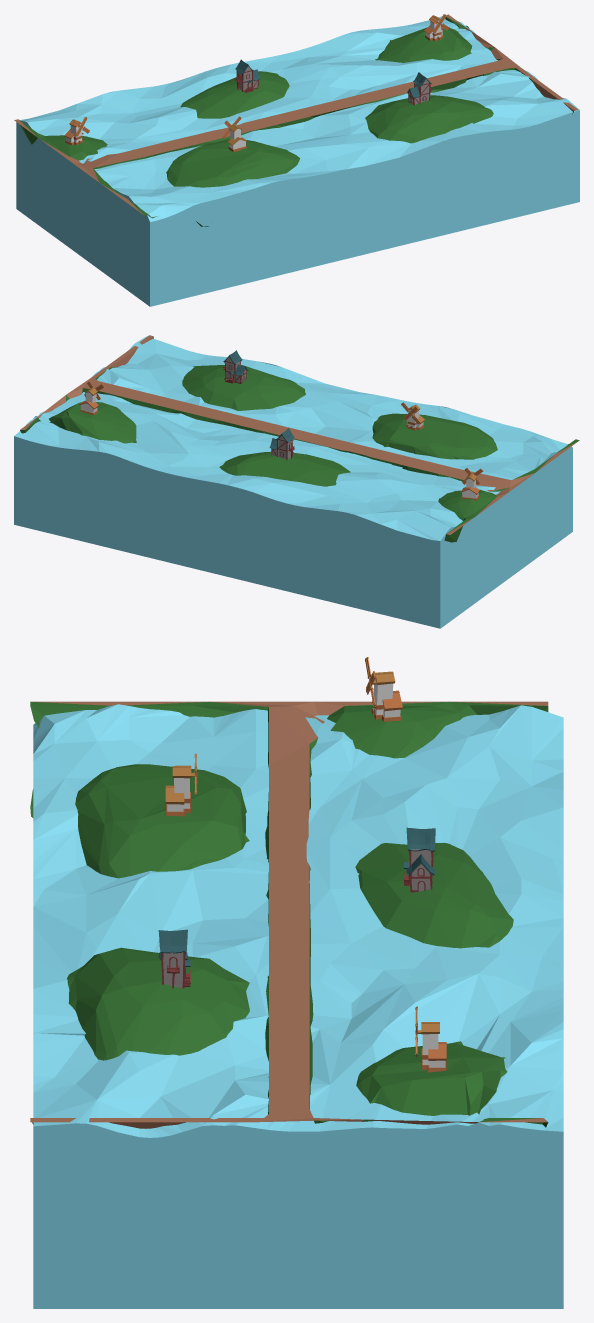
The model's file is Niederlande_World_Kloiber.fbx.
3 renders of one model, top to bottom at view 1: azimuth 30°, elevation 25°; view 2: azimuth 150°, elevation 25°; view 3: azimuth 270°, elevation 25°, orthographic. The views are drawn at different scales.
Visible parts, largest first — view 1: pPlane1, island1, Fantasy_House_6, Fantasy_House_8, mill7, mill6, mill5; view 2: pPlane1, island1, Fantasy_House_8, Fantasy_House_6, mill5, mill6, mill7; view 3: pPlane1, island1, Fantasy_House_6, Fantasy_House_8, mill6, mill5, mill7.
Part boxes in pixels (x1,y1,x2,y2): pPlane1: (16,15,579,306); island1: (14,14,578,226); Fantasy_House_6: (235,59,260,92); Fantasy_House_8: (406,72,431,105); mill7: (222,116,247,152); mill6: (64,117,89,145); mill5: (424,14,449,40); pPlane1: (14,336,572,628); island1: (20,335,579,542); Fantasy_House_8: (223,350,248,383); Fantasy_House_6: (269,428,294,459); mill5: (79,381,104,415); mill6: (460,468,483,500); mill7: (401,402,424,430); pPlane1: (33,704,563,1308); island1: (30,701,548,1128); Fantasy_House_6: (403,827,435,892); Fantasy_House_8: (158,929,190,988); mill6: (365,657,402,721); mill5: (415,1006,446,1072); mill7: (165,753,197,816).
Size of the model in its own units: 60.27 by 17.37 by 32.17.
